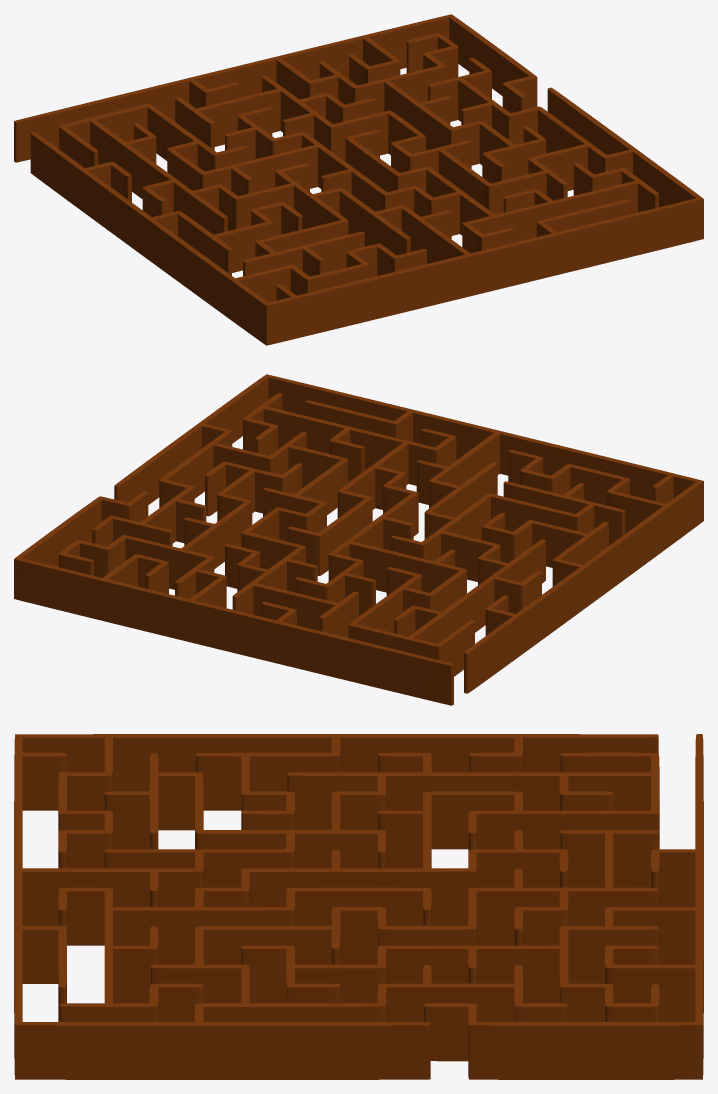
Rendered from labyrinth.obj.
3 renders of one model, top to bottom at view 1: azimuth 30°, elevation 25°; view 2: azimuth 150°, elevation 25°; view 3: azimuth 270°, elevation 25°, orthographic. The views are drawn at different scales.
Visible parts, largest first — view 1: Object_4; view 2: Object_4; view 3: Object_4.
Boxes of the visible parts, x1,y1,x2,y2 form: Object_4: (14, 14, 703, 345); Object_4: (14, 374, 703, 705); Object_4: (14, 734, 703, 1079).
Bounding box in the file's own units: 0.2851 × 0.0248 × 0.285.
